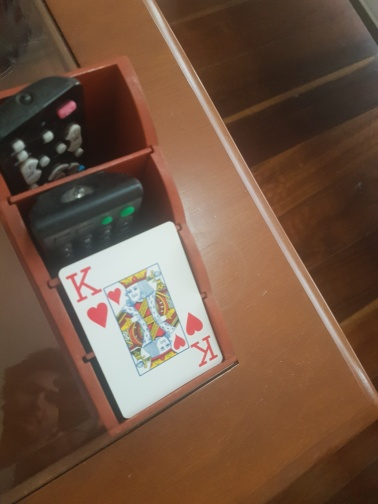king: (60, 222, 224, 419)
